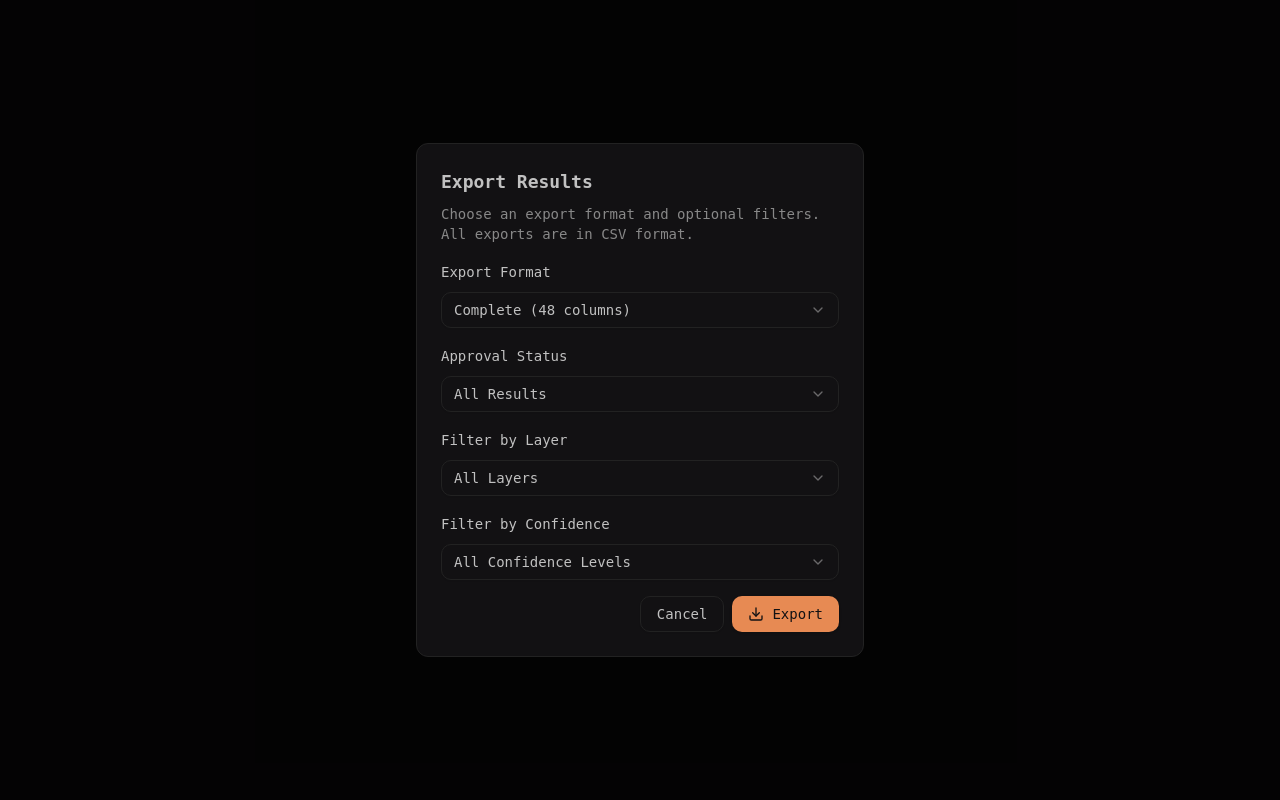
Test case: ExportDialog Component - TDD Test Suite › Loading State › T069-17: Cancel button is disabled during export
This screenshot has width=1280, height=800.
Click the button "Export".
click(786, 614)  # box x1=732 y1=596 x2=839 y2=632
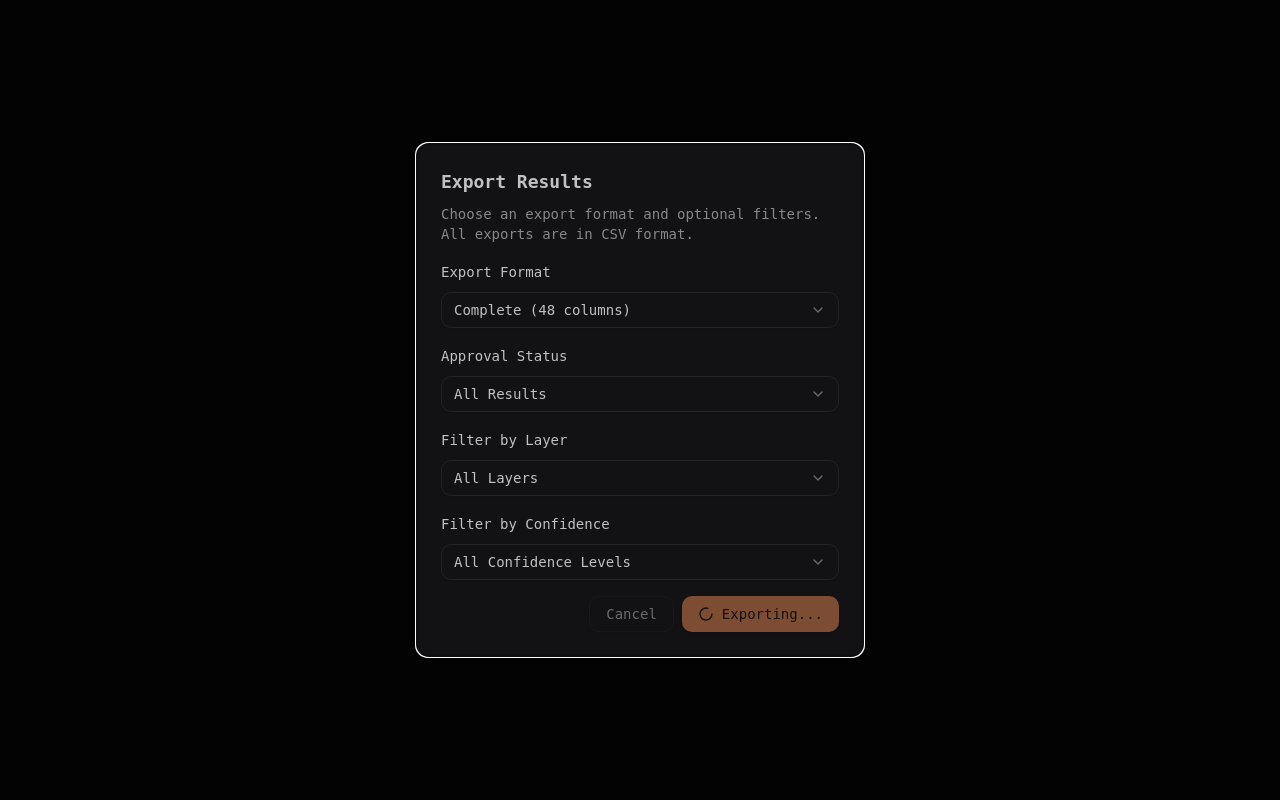
Expected: the button "Cancel" is disabled, x1=589 y1=596 x2=674 y2=632
